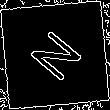N_SE: (23, 23, 87, 87)
